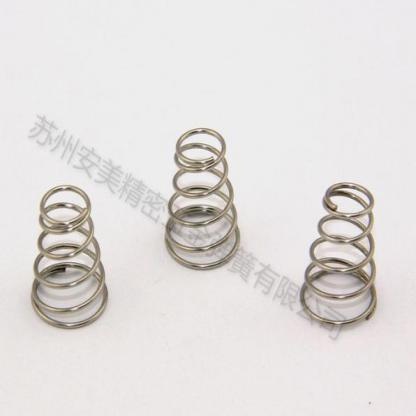FOD: (28, 179, 111, 334), (298, 178, 380, 329), (162, 125, 244, 271)
